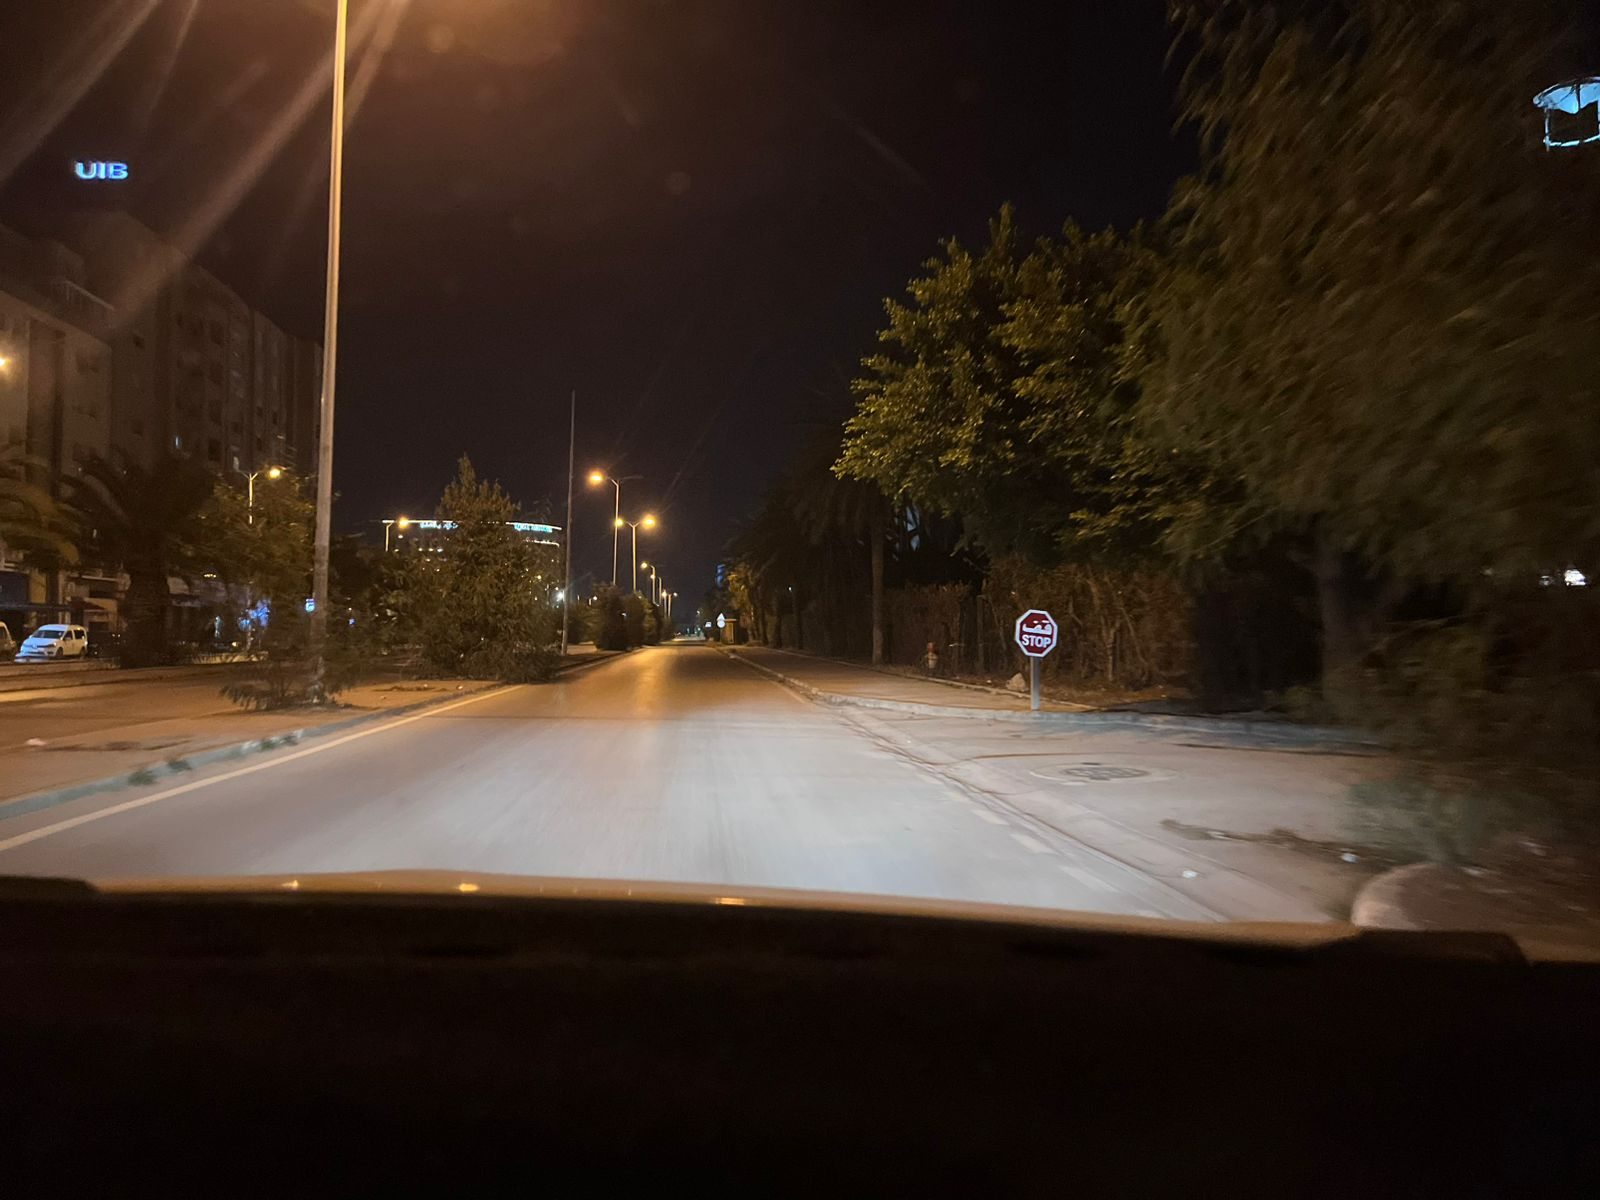Stop: (1015, 609, 1057, 657)
